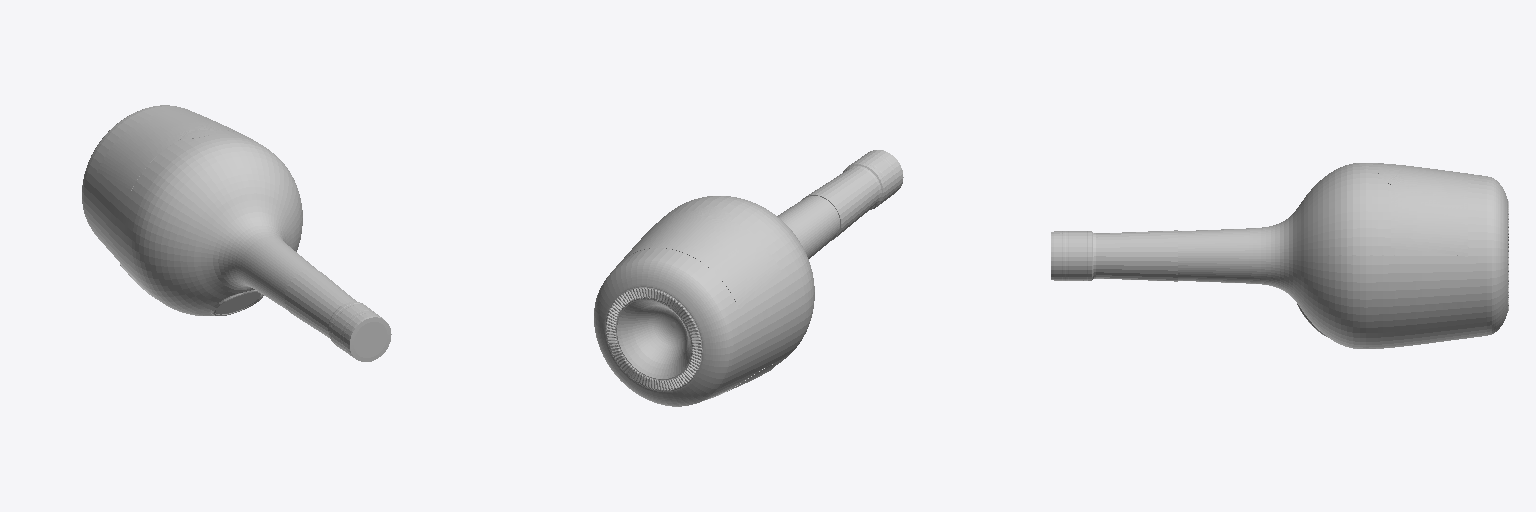
File: Courvoisier.obj
The picture shows the model from 3 angles: view 1: azimuth 30°, elevation 25°; view 2: azimuth 150°, elevation 25°; view 3: azimuth 270°, elevation 25°; orthographic projection.
Bounding box in the file's own units: 189 × 189 × 465.